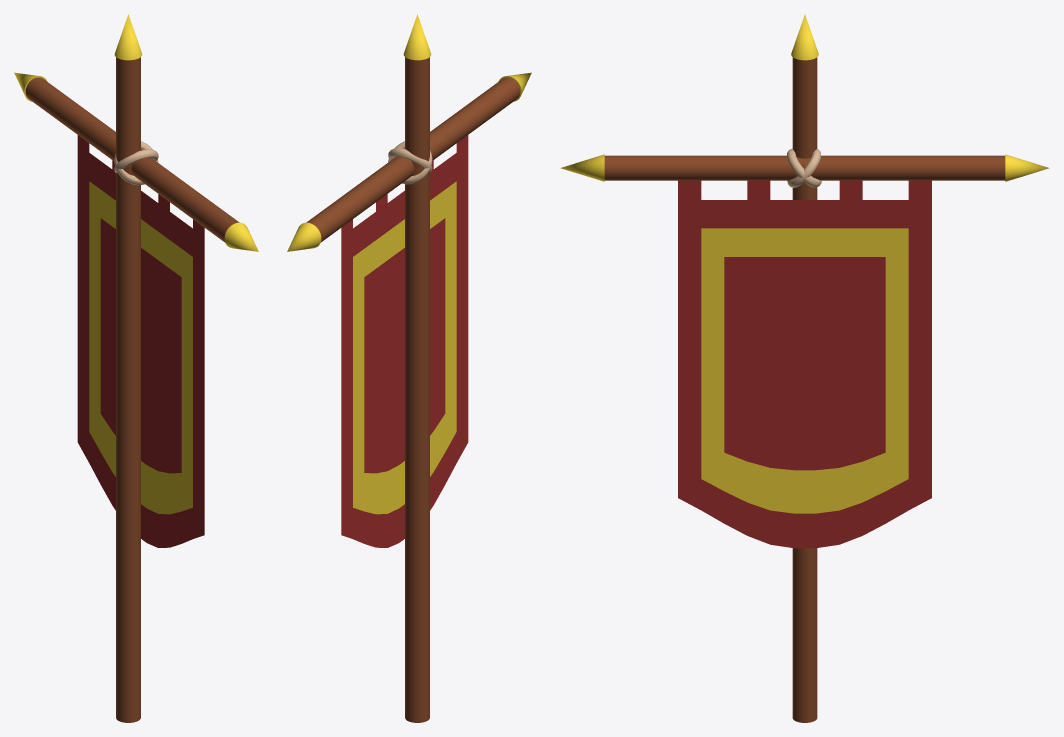
Rendered from Flag 1.fbx.
The picture shows the model from 3 angles, left to right: view 1: azimuth 30°, elevation 25°; view 2: azimuth 150°, elevation 25°; view 3: azimuth 270°, elevation 25°; orthographic projection.
Visible parts, largest first — view 1: Flag, Cross; view 2: Flag, Cross; view 3: Flag, Cross.
Boxes of the visible parts, x1,y1,x2,y2 form: Flag: (77, 135, 204, 547); Cross: (14, 14, 258, 722); Flag: (341, 135, 468, 547); Cross: (287, 14, 531, 722); Flag: (678, 180, 931, 548); Cross: (560, 14, 1049, 722).
Bounding box in the file's own units: 37.89 × 625 × 394.
